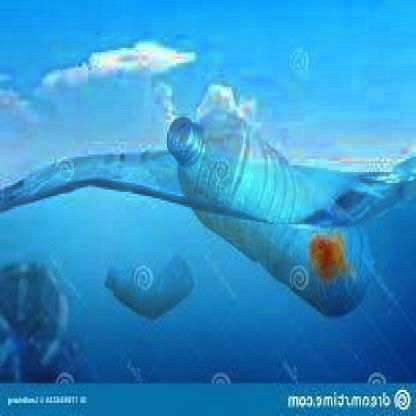pbottle: (159, 96, 374, 318), (94, 244, 206, 322)
